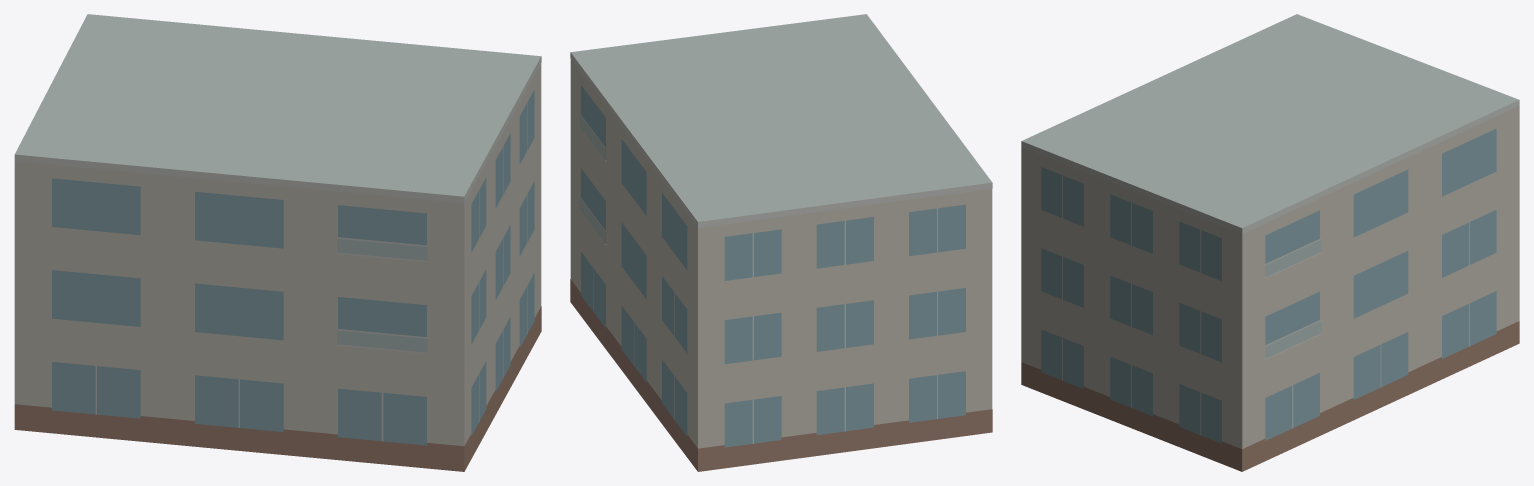
Rendered from survey-upis-32673876.glb.
3 renders of one model, left to right at view 1: azimuth 30°, elevation 25°; view 2: azimuth 150°, elevation 25°; view 3: azimuth 270°, elevation 25°, orthographic. The views are drawn at different scales.
Visible parts, largest first — view 1: survey-upis-32673876.tmp; view 2: survey-upis-32673876.tmp; view 3: survey-upis-32673876.tmp.
Part boxes in pixels (bbox=[...]): survey-upis-32673876.tmp: bbox=[14, 14, 541, 471]; survey-upis-32673876.tmp: bbox=[570, 14, 992, 471]; survey-upis-32673876.tmp: bbox=[1021, 14, 1519, 471].
Size of the model in its own units: 19.24 by 10.2 by 18.9.
